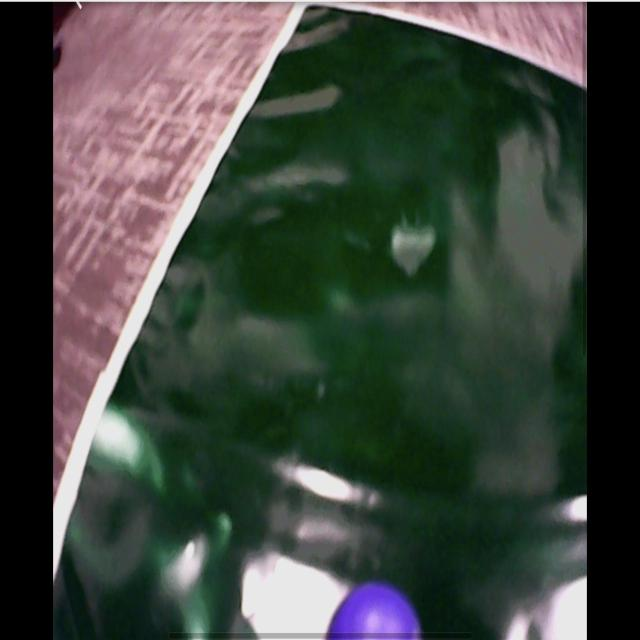ball: (323, 583, 424, 640)
